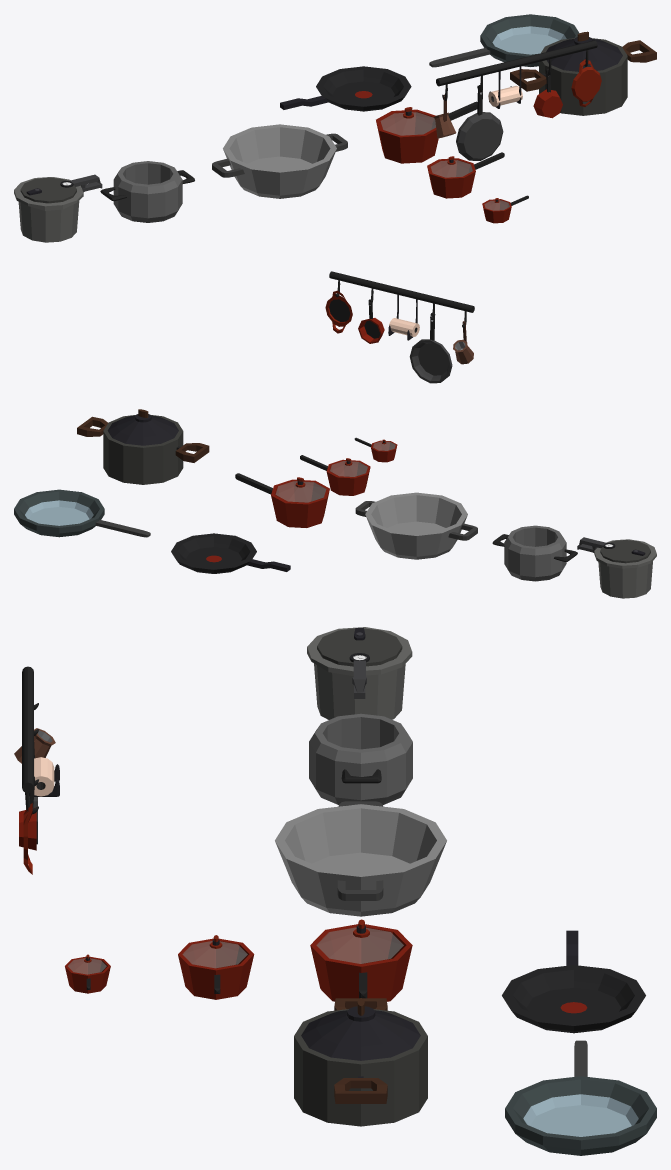
Rendered from tencere ve tavalar.fbx.
The picture shows the model from 3 angles, top to bottom: view 1: azimuth 30°, elevation 25°; view 2: azimuth 150°, elevation 25°; view 3: azimuth 270°, elevation 25°; orthographic projection. The views are drawn at different scales.
Parts seen in each view (by area): view 1: genistencere, düdüklütencere, tencere, tencere2, tava2, tava, sostenceresi, asılıbüyktava, sostenceresi2, tencerekapagi, uzunaski, büyüksoskapagi (+6 smaller); view 2: genistencere, tencere, tava2, düdüklütencere, tencere2, tava, sostenceresi, tencerekapagi, asılıbüyktava, sostenceresi2, uzunaski, büyüksoskapagi (+4 smaller); view 3: genistencere, tencere, tava2, tencere2, düdüklütencere, tava, sostenceresi, tencerekapagi, sostenceresi2, büyüksoskapagi, uzunaski, sostenceresi3 (+1 smaller).
Boxes of the visible parts, x1,y1,x2,y2 form: genistencere: (212, 124, 347, 198); düdüklütencere: (14, 174, 102, 242); tencere: (510, 38, 656, 115); tencere2: (100, 161, 194, 222); tava2: (429, 14, 579, 67); tava: (280, 66, 411, 111); sostenceresi: (376, 101, 477, 163); asılıbüyktava: (456, 85, 503, 160); sostenceresi2: (427, 152, 504, 198); tencerekapagi: (546, 31, 622, 71); uzunaski: (436, 40, 597, 86); büyüksoskapagi: (381, 107, 435, 135); genistencere: (355, 492, 477, 559); tencere: (77, 415, 209, 484); tava2: (14, 489, 150, 537); düdüklütencere: (577, 537, 656, 598); tencere2: (492, 525, 577, 581); tava: (171, 533, 290, 573); sostenceresi: (235, 473, 329, 527); tencerekapagi: (107, 409, 178, 445); asılıbüyktava: (409, 312, 452, 383); sostenceresi2: (300, 455, 370, 495); uzunaski: (329, 271, 474, 312); büyüksoskapagi: (276, 477, 325, 502); genistencere: (275, 801, 446, 916); tencere: (294, 998, 427, 1126); tava2: (505, 1040, 656, 1155); tencere2: (309, 713, 412, 804); düdüklütencere: (307, 627, 412, 719); tava: (502, 930, 645, 1033); sostenceresi: (310, 924, 412, 1001); tencerekapagi: (301, 998, 420, 1060); sostenceresi2: (178, 938, 254, 999); büyüksoskapagi: (317, 919, 403, 963); uzunaski: (22, 666, 33, 793); sostenceresi3: (65, 956, 110, 993).
Size of the model in its own units: 987 by 262 by 578.
Materials: 3 (2 with a texture image).
